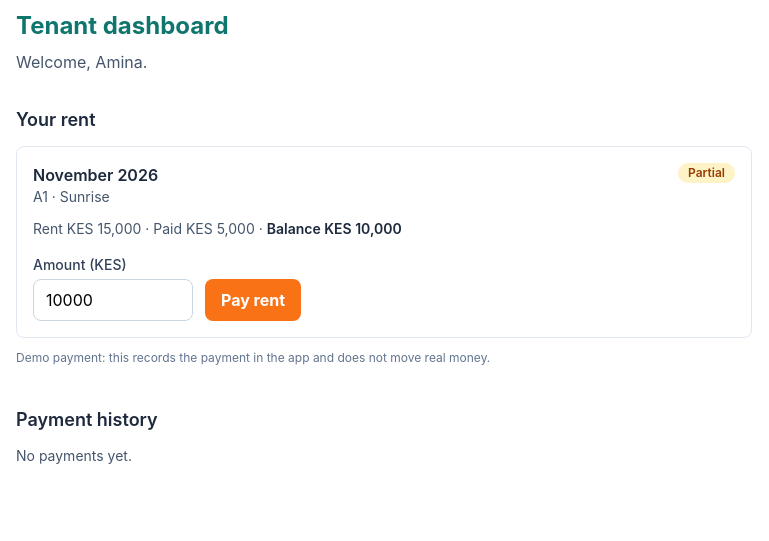
it: TenantDashboard page › records a payment of the balance
Click the button "Pay rent".
click(253, 300)  # box [205,279,301,321]
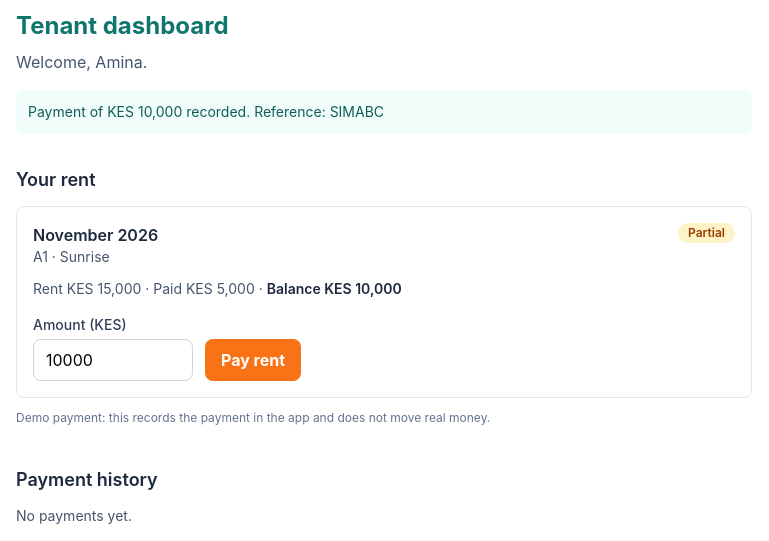
Expected: the message shows "SIMABC", [28,103,384,120]
